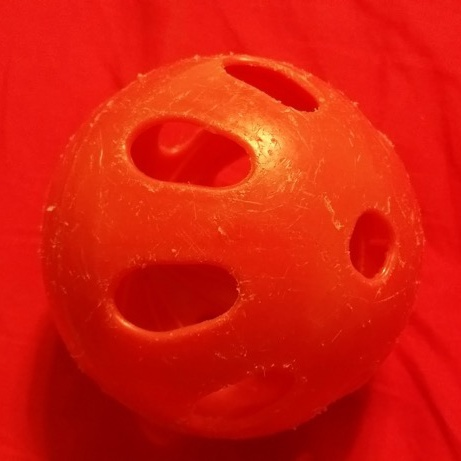redball: (32, 48, 434, 446)
